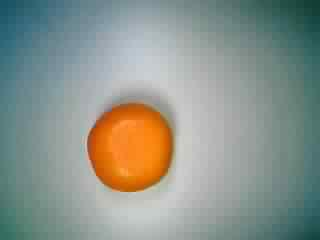orange: (76, 101, 178, 197)
